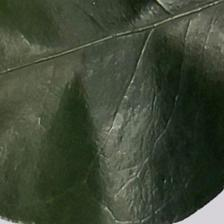healthy: (11, 4, 224, 197)
